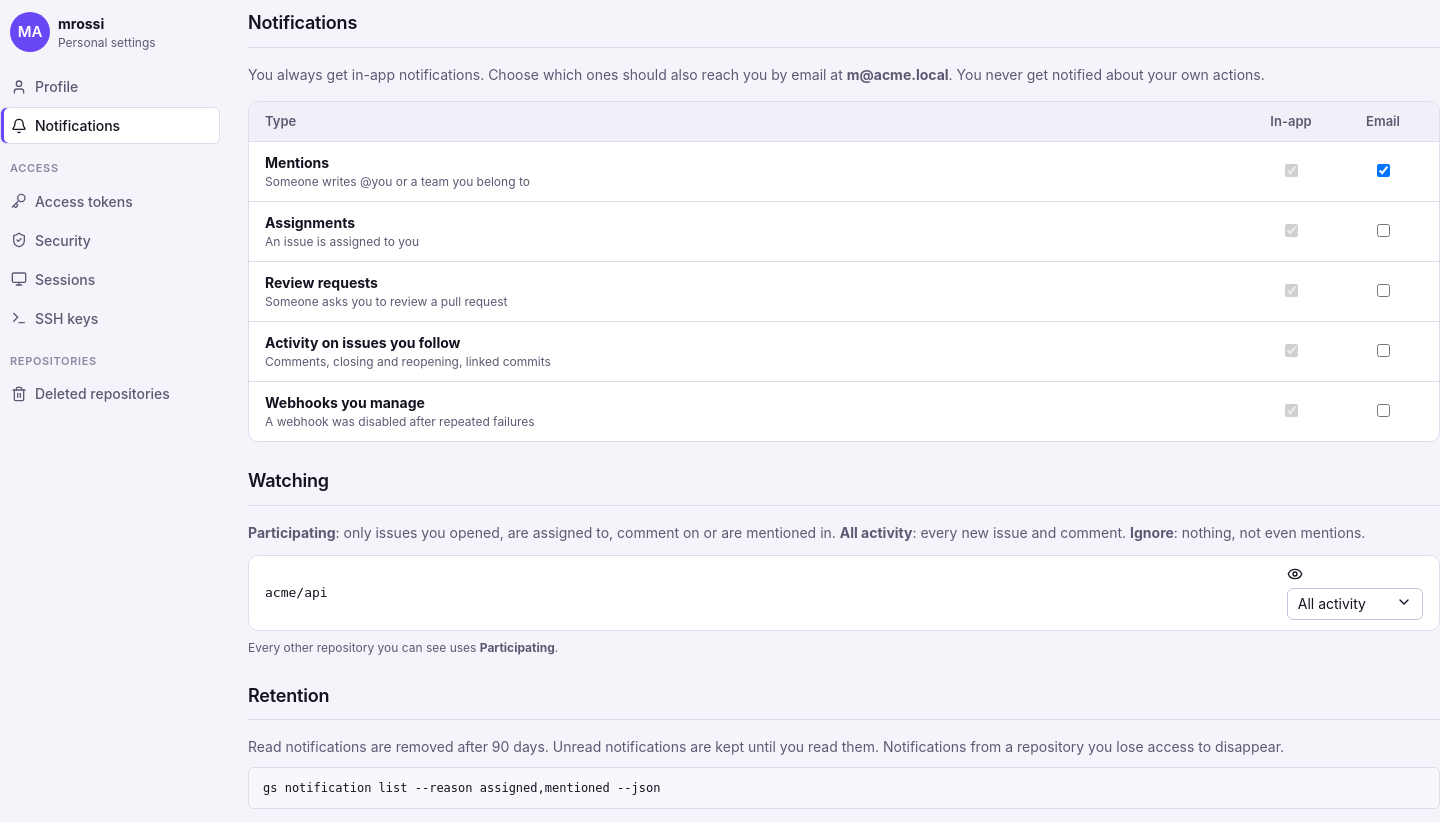
Test: NotificationSettingsPage › elenca i repo col loro Watch e lo cambia
The image size is (1440, 822).
Click the dropdown named "Watch acme/api": (1355, 604) [1287, 588, 1423, 620]
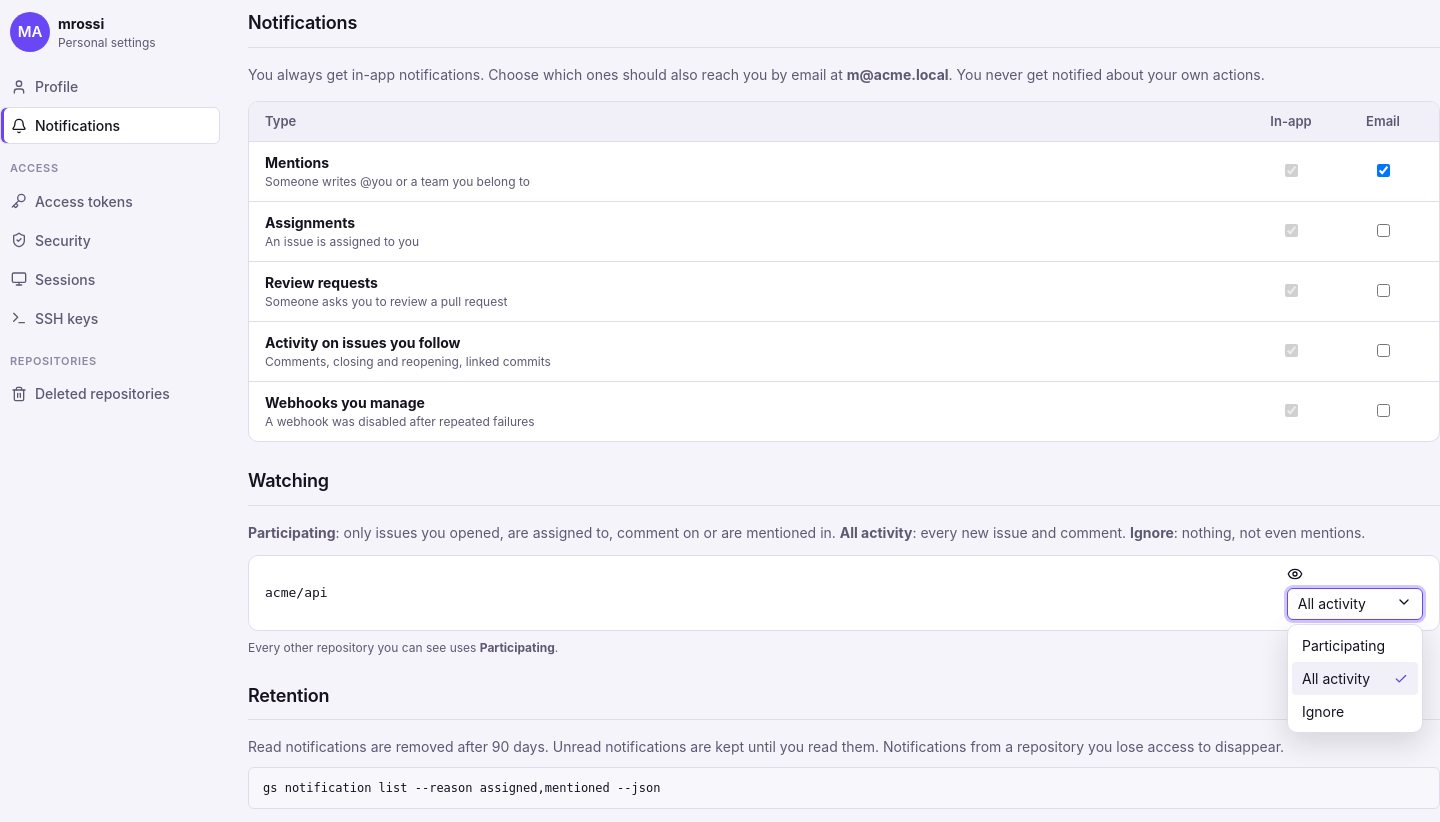
Click the option "Ignore": (1323, 712) [1302, 703, 1344, 720]
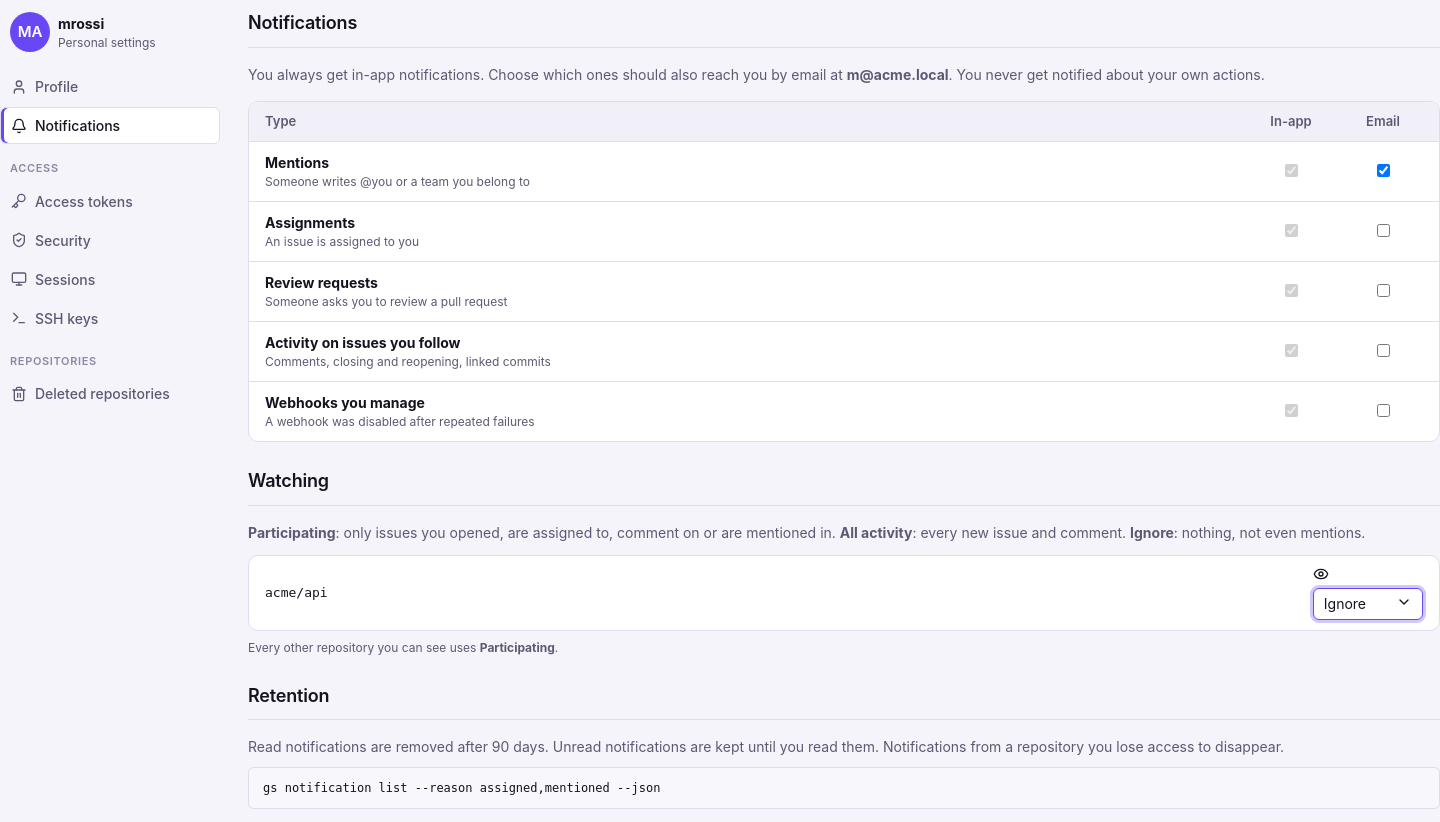
Expected: the dropdown named "Watch acme/api" reads "Ignore", [1313, 588, 1423, 620]
